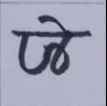o_matra: (44, 14, 74, 73)
